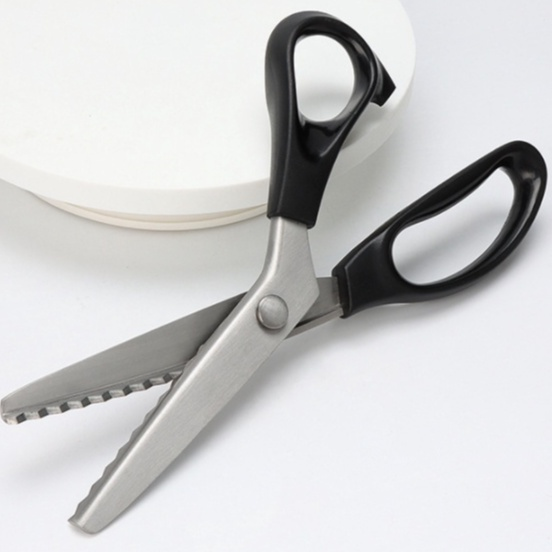scissors: (6, 9, 552, 537)
